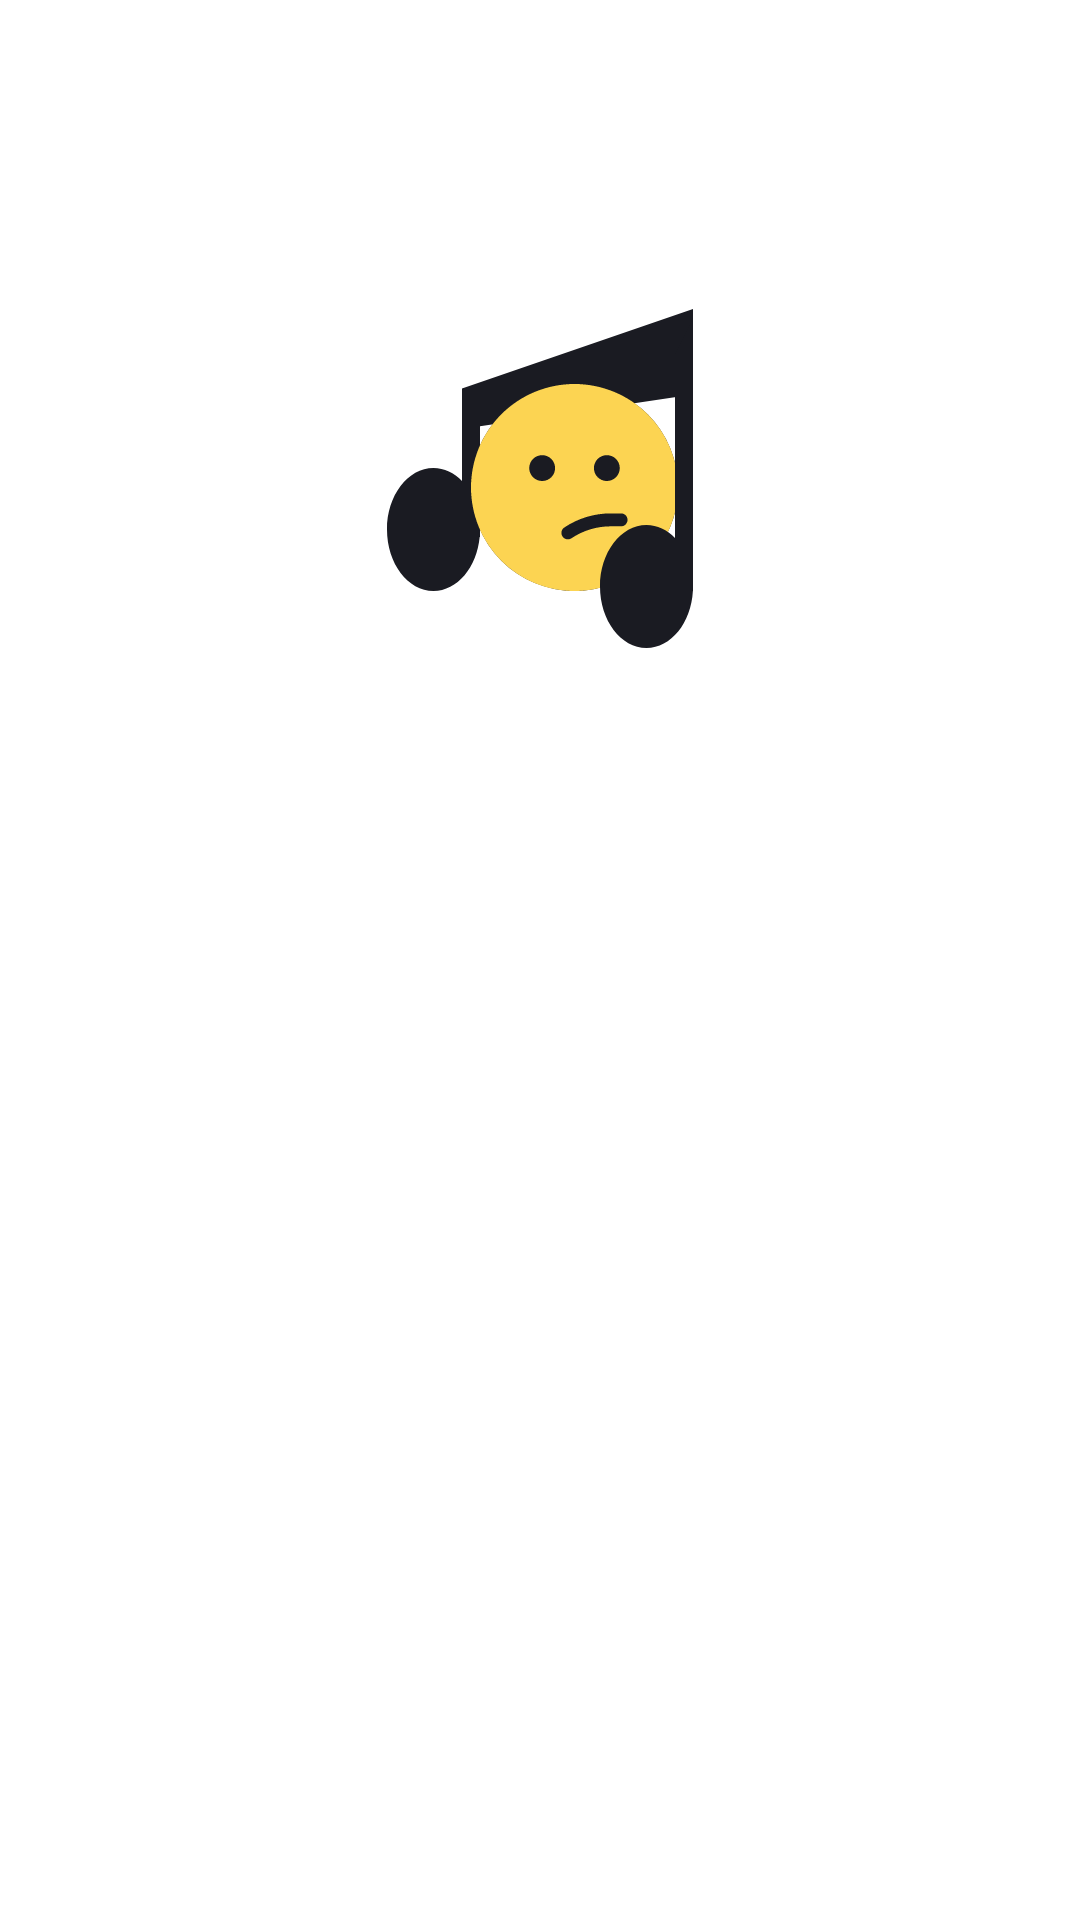

Icon click points for this 1080×1920 phone screenshot, format point (x, y):
not found error: point (540, 478)
